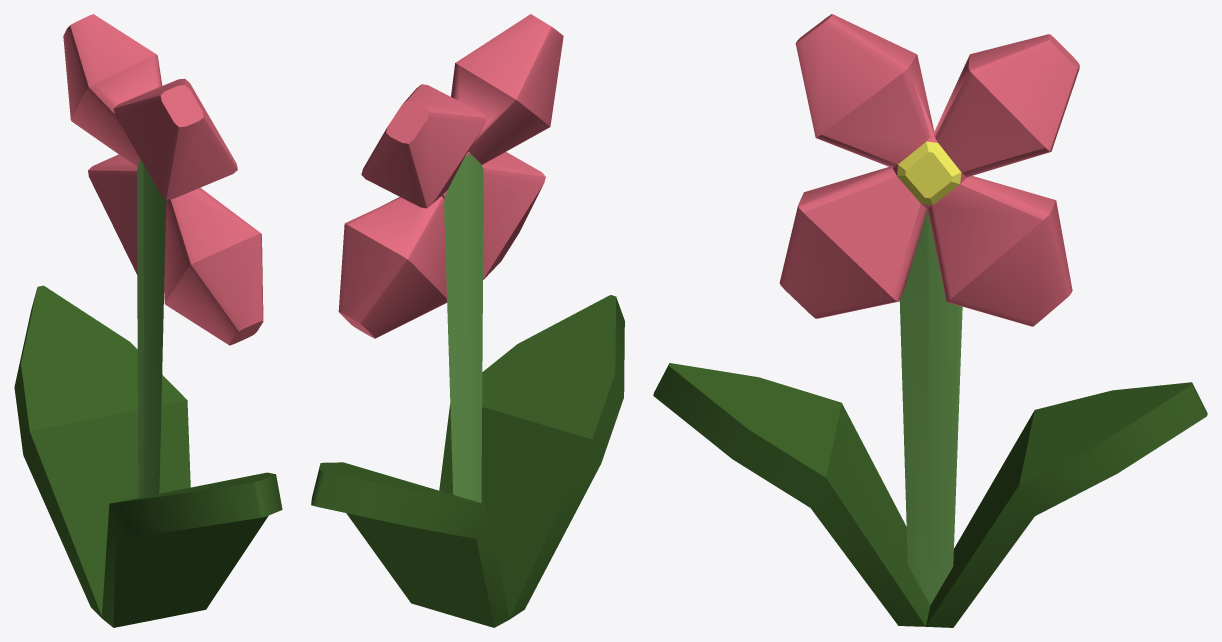
The model's file is Flower02.fbx.
3 renders of one model, left to right at view 1: azimuth 30°, elevation 25°; view 2: azimuth 150°, elevation 25°; view 3: azimuth 270°, elevation 25°, orthographic. The views are drawn at different scales.
Visible parts, largest first — view 1: Flower002; view 2: Flower002; view 3: Flower002.
Boxes of the visible parts, x1,y1,x2,y2 form: Flower002: (14,14,282,627); Flower002: (311,14,624,627); Flower002: (653,14,1207,627).
Size of the model in its own units: 3.36 by 10.88 by 9.43.
Materials: 1 (1 with a texture image).
